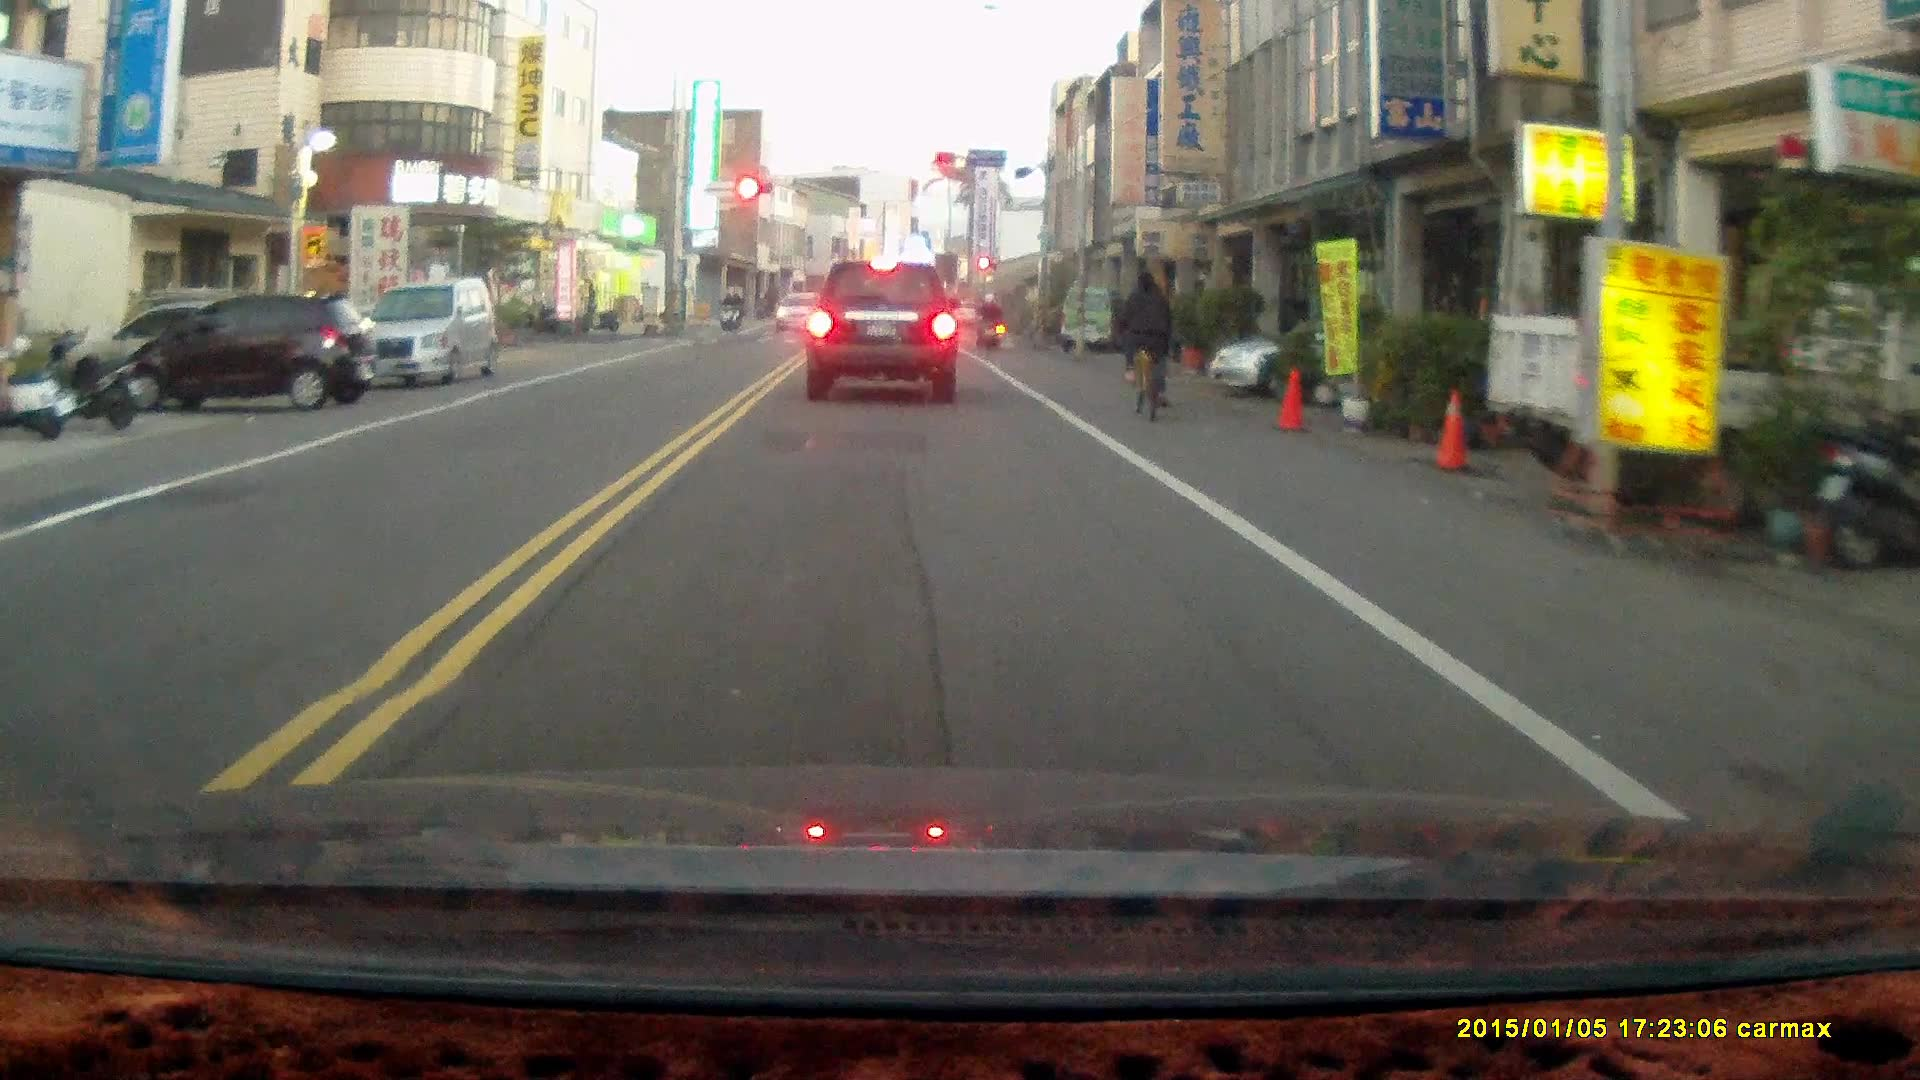rider: (1113, 270, 1173, 425), (972, 291, 1003, 354), (715, 288, 738, 333)
vehicle: (120, 286, 379, 412), (801, 258, 962, 405), (1207, 312, 1457, 399), (346, 278, 496, 389)
